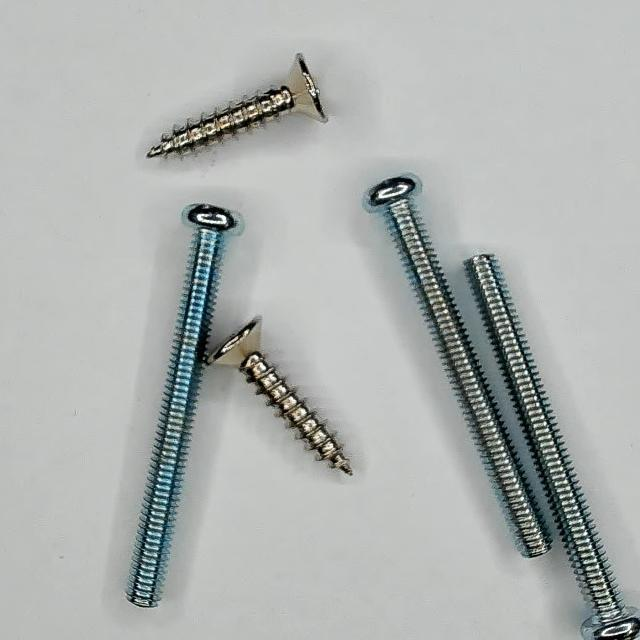Screw: (370, 176, 551, 558), (470, 256, 640, 640), (128, 204, 236, 608), (207, 317, 352, 476), (147, 53, 326, 157)
